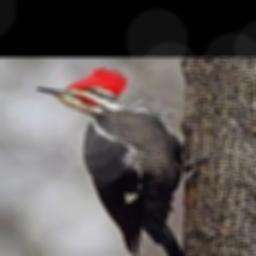Woodpecker: (38, 68, 223, 256)
